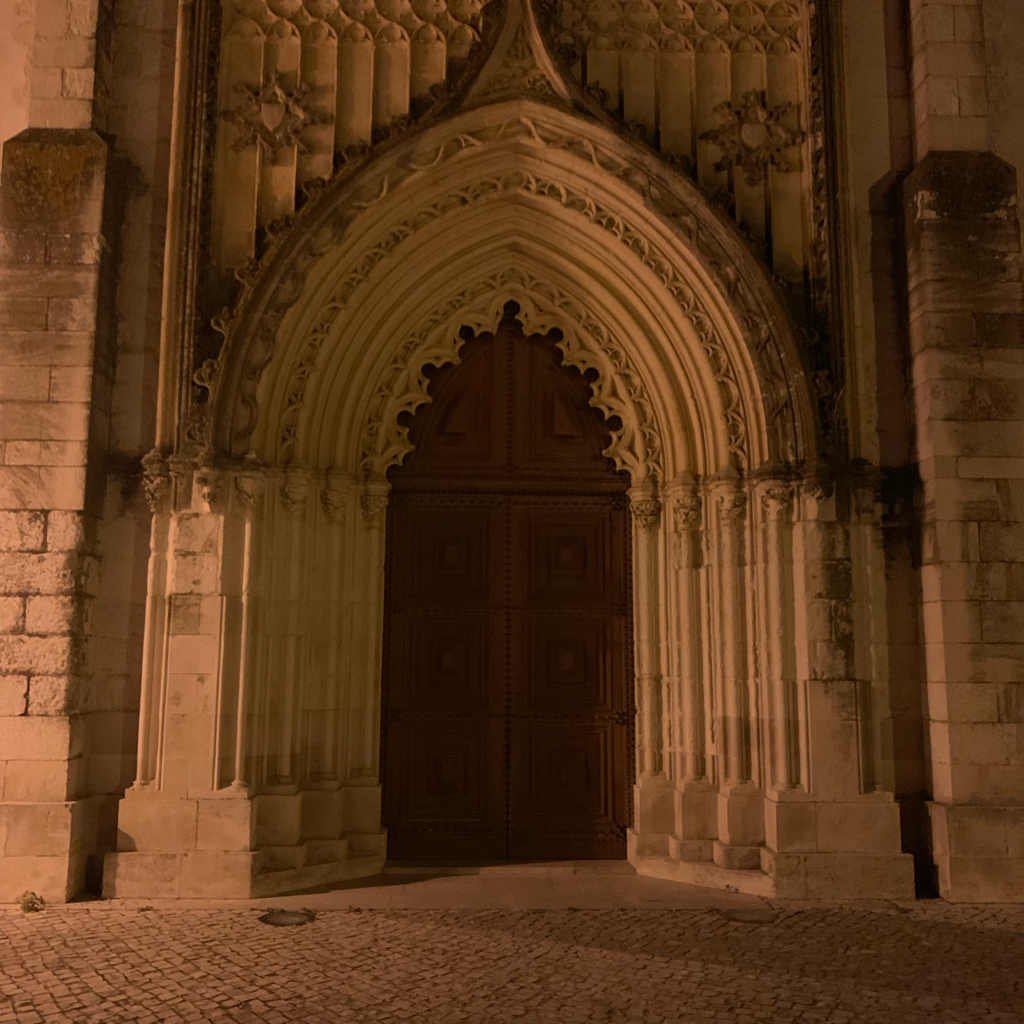arco-apuntado: (232, 105, 748, 468)
arco-conopial: (340, 1, 683, 174)
